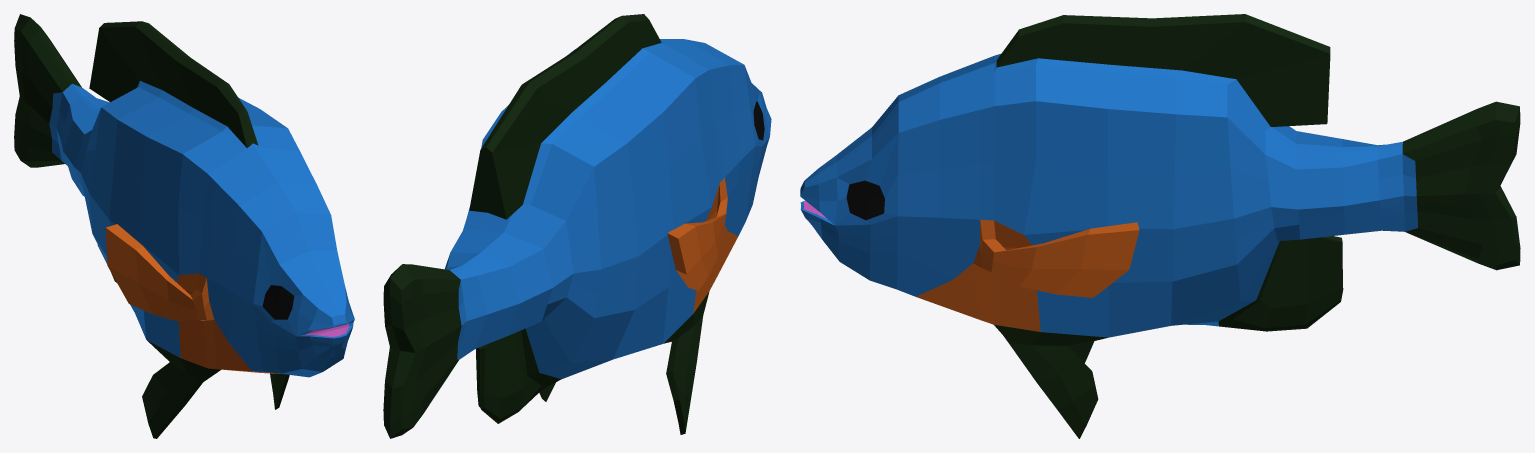
The model's file is Bluegill.FBX.
3 views of the same model, side by side, from view 1: azimuth 30°, elevation 25°; view 2: azimuth 150°, elevation 25°; view 3: azimuth 270°, elevation 25° (orthographic). The views are drawn at different scales.
Parts seen in each view (by area): view 1: Bluegill; view 2: Bluegill; view 3: Bluegill.
Boxes of the visible parts, x1=… form: Bluegill: x1=14, y1=14, x2=354, y2=438; Bluegill: x1=383, y1=14, x2=771, y2=438; Bluegill: x1=800, y1=14, x2=1520, y2=438.
Size of what is drawn, in the model's own units: 33.42 by 107 by 64.53.
